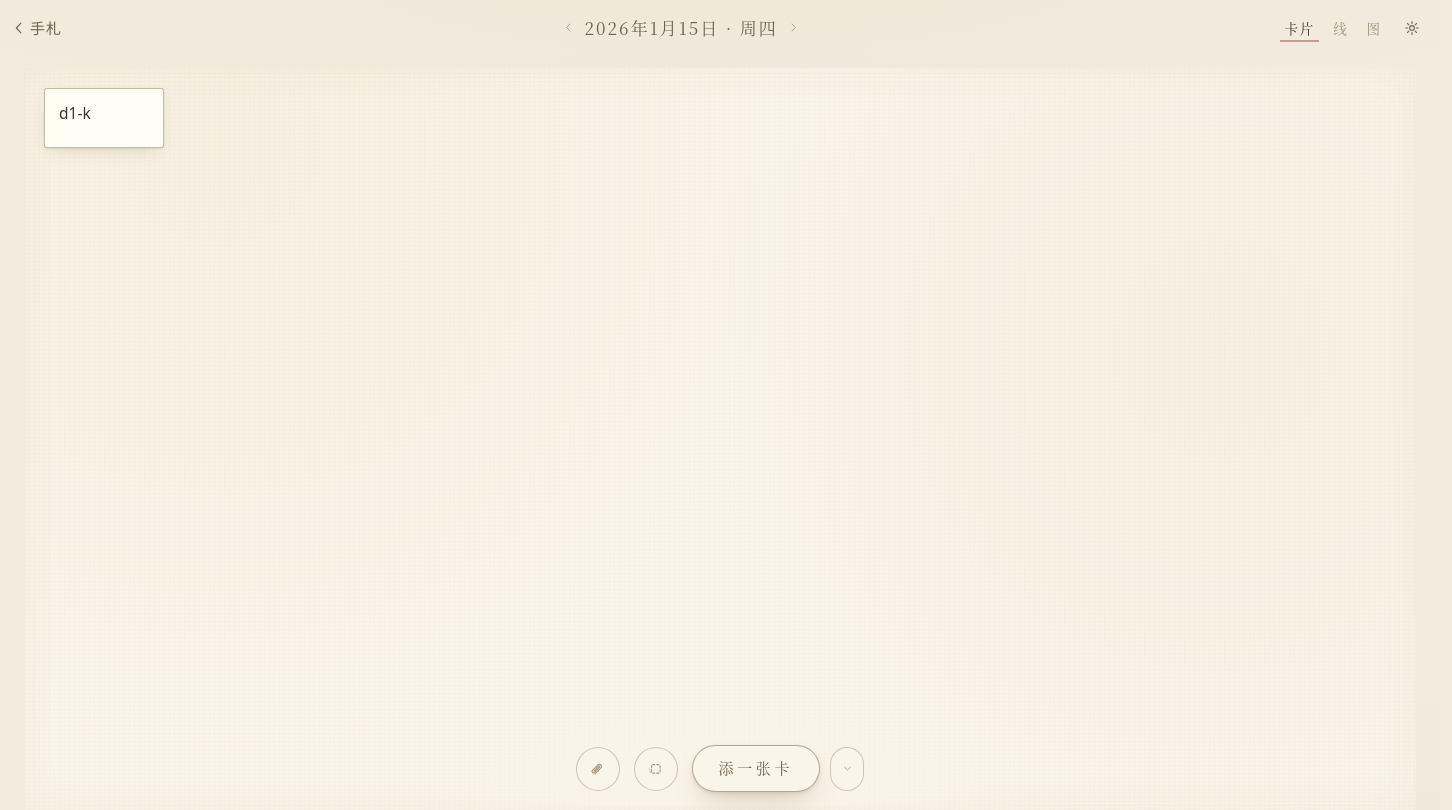
it: 造叠（D1） › 底栏第三枚把手落一张空垫纸：props 全空、220×160、即刻选中且耳语等着
The width and height of the screenshot is (1452, 810).
Expected: the text "d1-k" is shown, top-left (59, 102), bottom-right (91, 124)
Click the button named "造叠".
click(656, 769)  # box top-left (634, 747), bottom-right (678, 791)
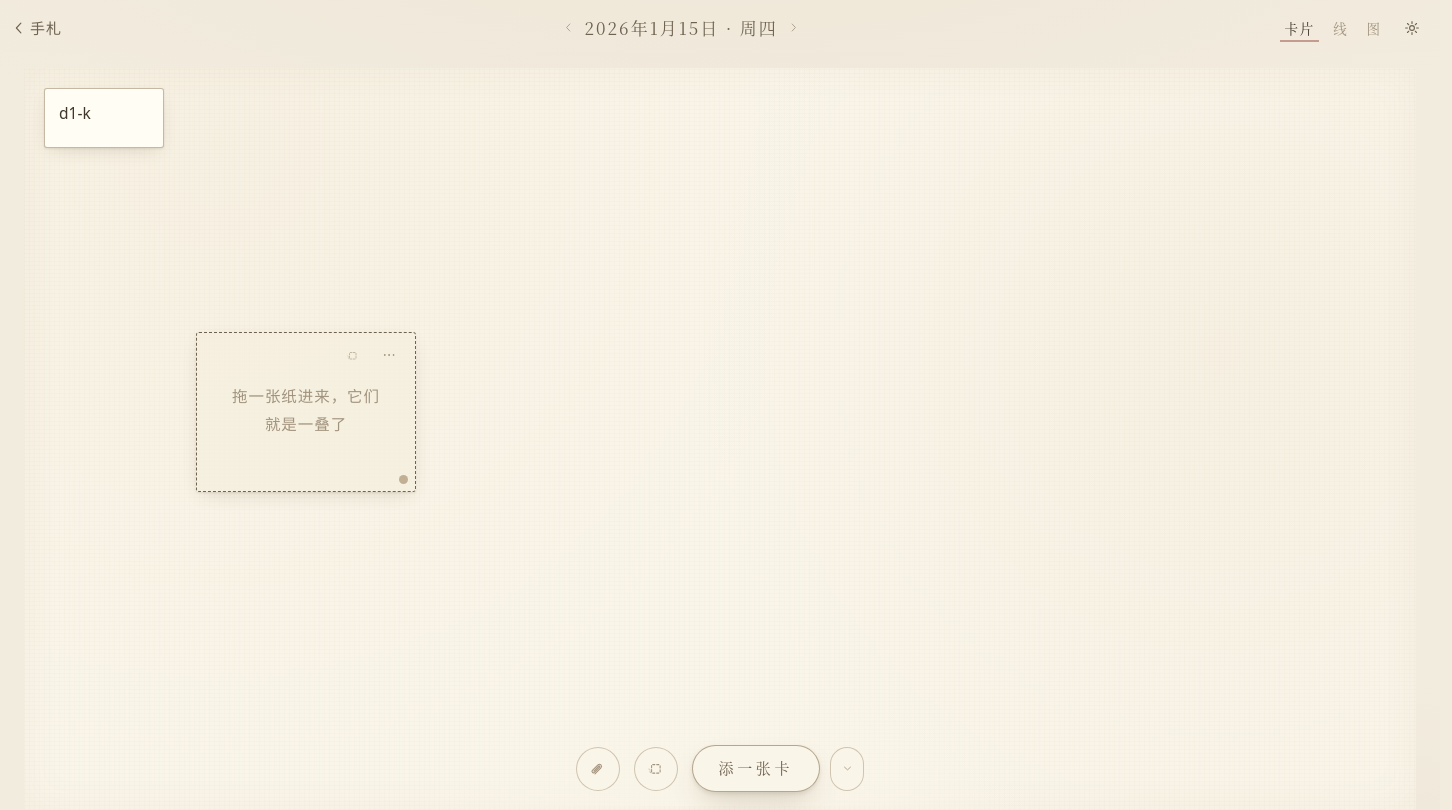
Expected: the text with class "bj-stack-whisper" reads "拖一张纸进来，它们就是一叠了", top-left (232, 385), bottom-right (380, 435)
